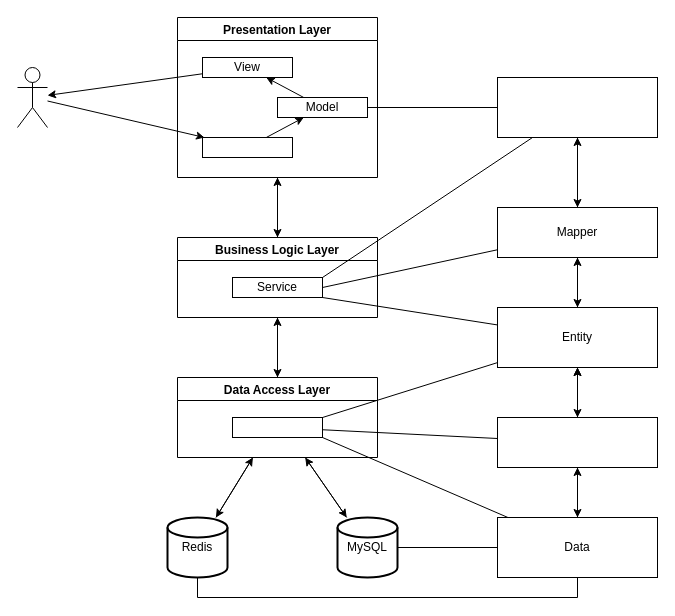
This 675x616 diagram has some shape labels left out. The shapes that lost their labels are listed below. From the top down, each one's box as (x1, y1, x2, y2) in pixels, then its label:
(16, 66, 48, 128): Client
(496, 76, 658, 138): DTO
(202, 136, 292, 158): Controller
(232, 416, 322, 438): Repository
(496, 416, 658, 468): JPA
